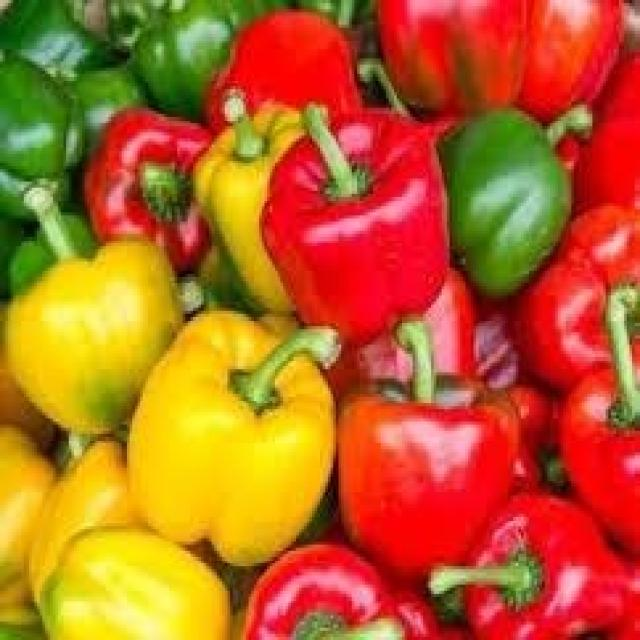bell_pepper: (136, 318, 339, 558), (331, 321, 511, 583), (3, 203, 183, 435), (268, 108, 450, 327), (431, 95, 603, 303), (448, 487, 638, 640), (373, 1, 626, 109), (90, 106, 220, 280), (242, 552, 432, 640)
